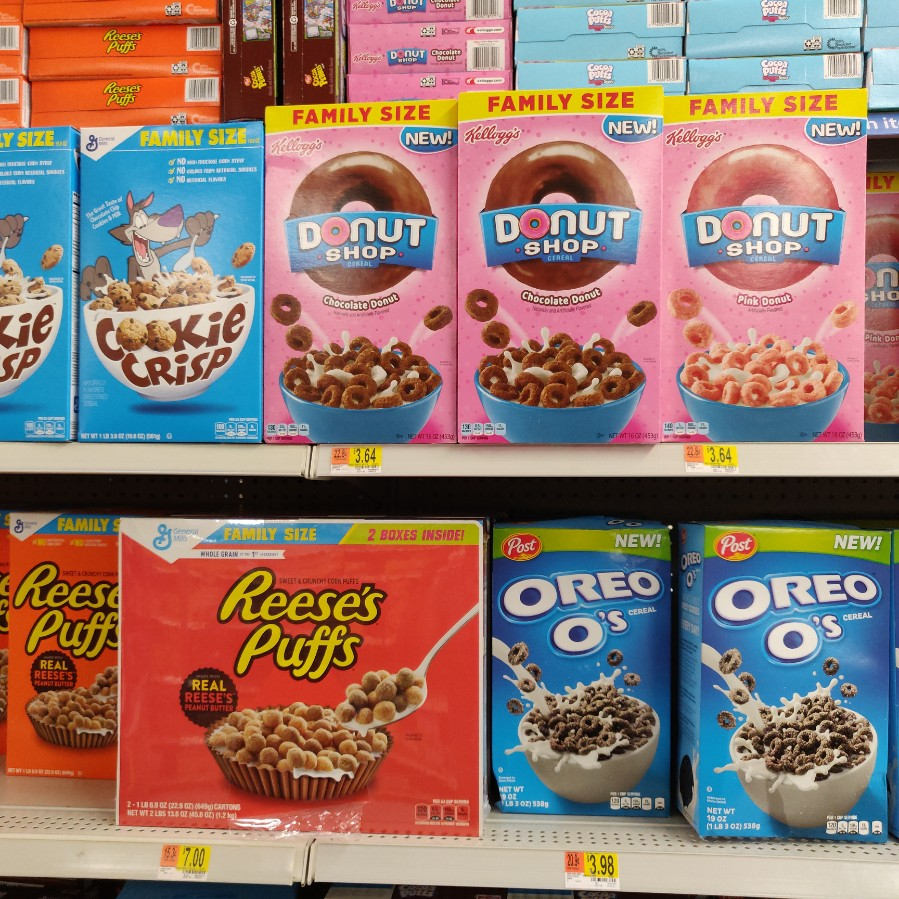Oreo-563424384: (690, 519, 896, 854), (486, 519, 687, 828)
